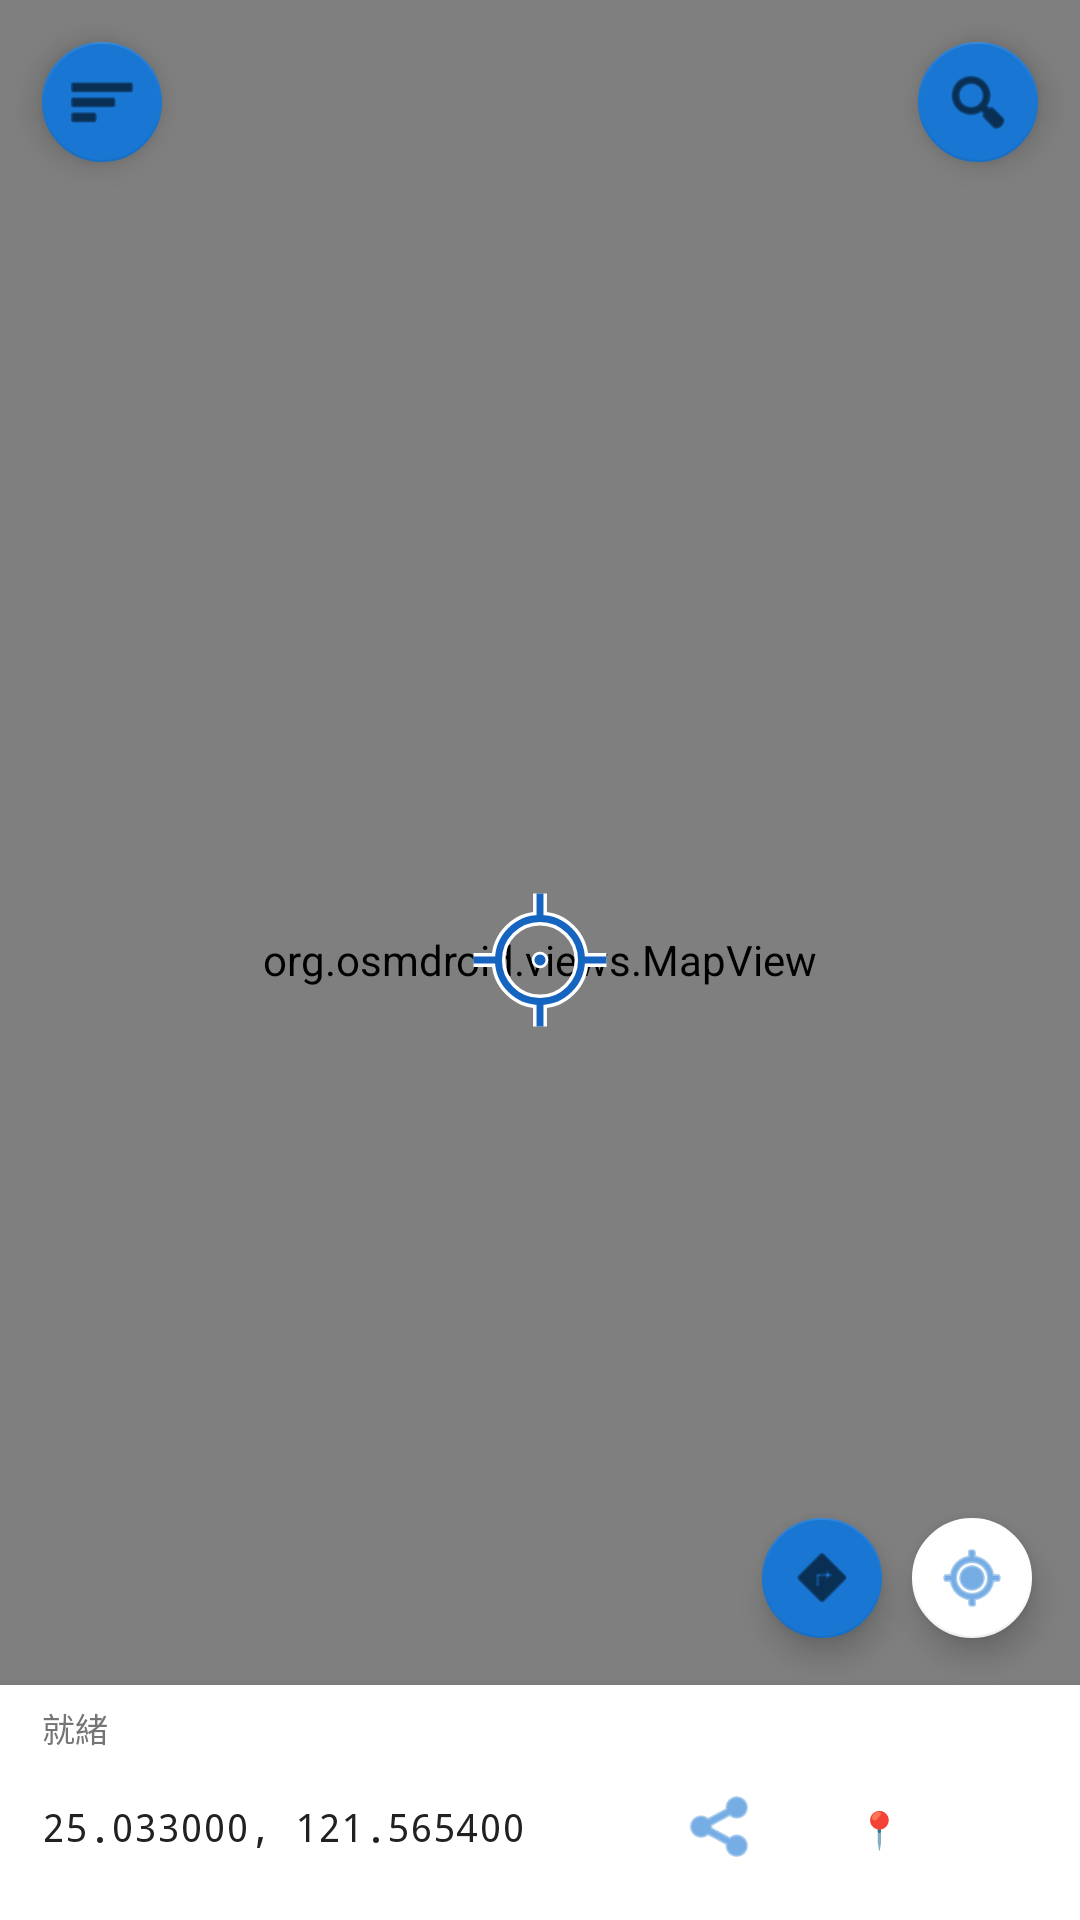

Named icons in this screenshot (1080px×1920px) and their centers, [x,y]:
搜尋: [978,102]
路徑規劃: [822,1578]
返回目前位置: [972,1578]
開啟選單: [102,102]
